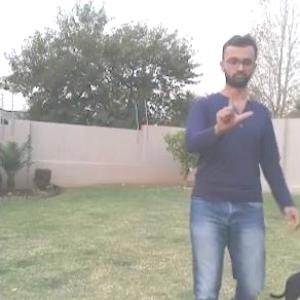land_hand: (208, 87, 256, 132)
